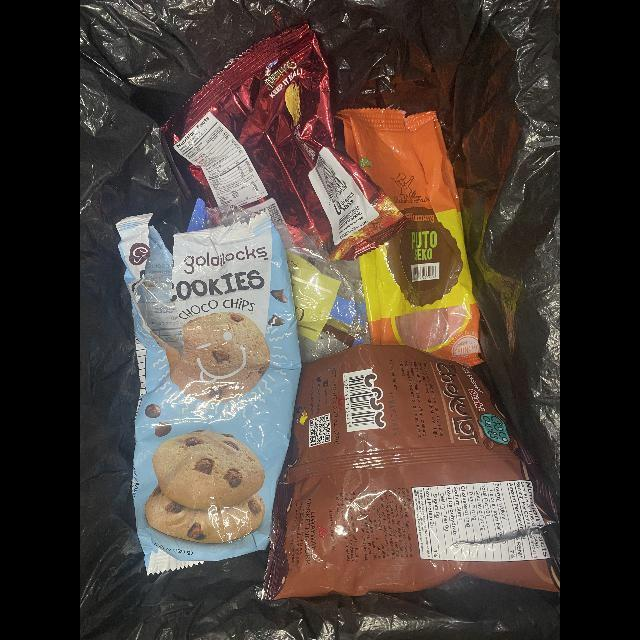food_wrapper: (257, 343, 560, 604), (115, 214, 302, 576), (160, 23, 410, 261), (335, 107, 486, 367)
